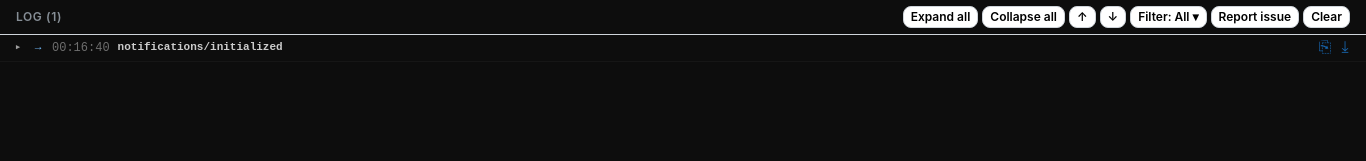
Test: LogPanel — DEC-012 › outgoing notifications/initialized renders body, copy, save — no pair-jump
Expected: the text "notifications/initialized" is shown, [118, 41, 283, 53]
Expected: the element showing "▸ → 00:16:40 notifications/initialized ⎘ ⤓" is shown, [0, 35, 1365, 62]
Note: The body expands to show the JSON envelope when the values are clicked.
What coordinates should you click on to do the following:
click the button with class "log-row__values"
I would click on:
 (149, 48)
Its box is [15, 41, 283, 55].
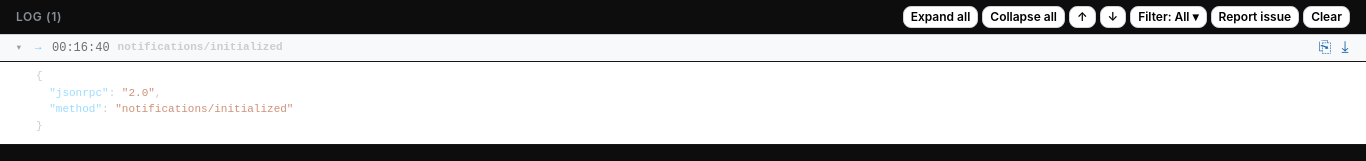
Result: the element named "message 1" is shown at [36, 70, 294, 132]
